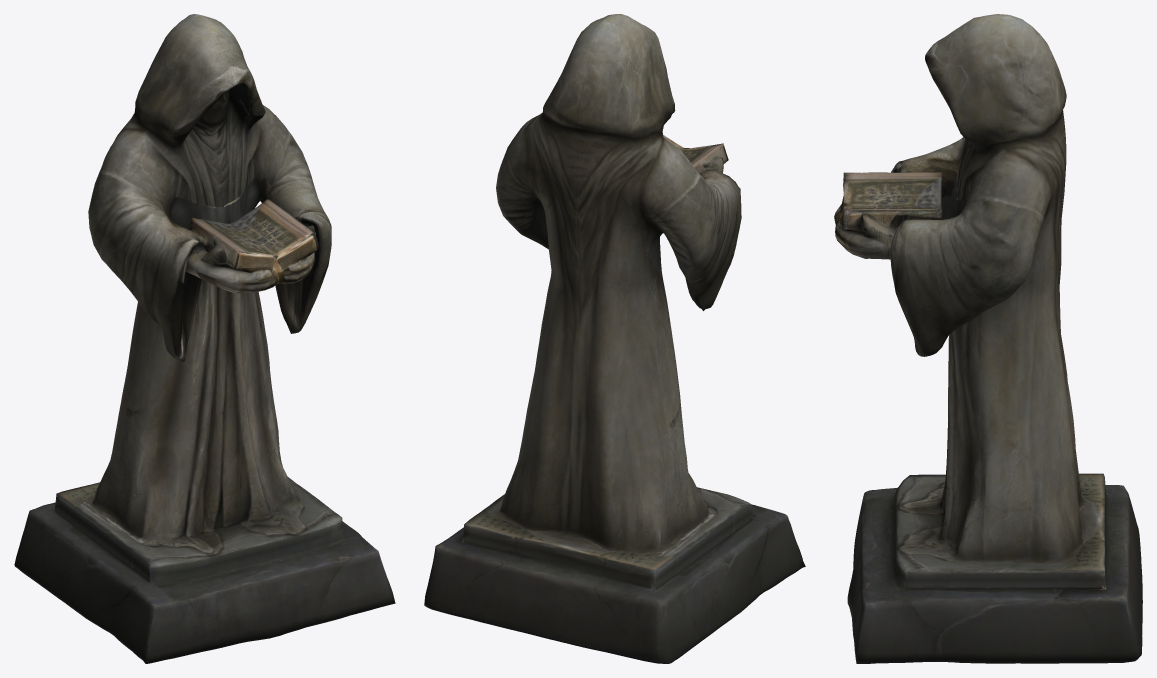
The picture shows the model from 3 angles, left to right: view 1: azimuth 30°, elevation 25°; view 2: azimuth 150°, elevation 25°; view 3: azimuth 270°, elevation 25°; orthographic projection. The views are drawn at different scales.
Bounding box in the file's own units: 0.9212 × 1.99 × 0.9516.
Materials: 1 (1 with a texture image).
